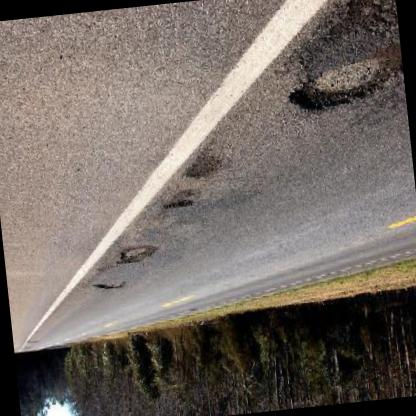pothole: (286, 53, 393, 116), (184, 149, 226, 182), (116, 241, 160, 266), (160, 190, 198, 213), (94, 278, 128, 294)
